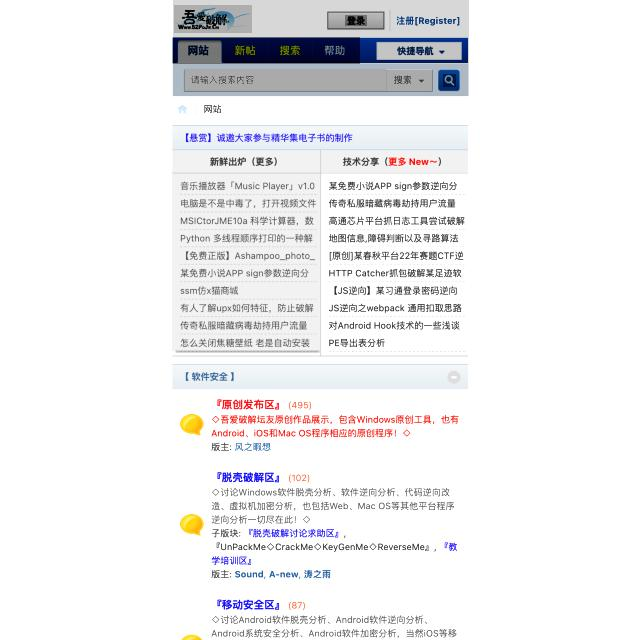CheckBox: (327, 11, 385, 30), (395, 14, 461, 28), (439, 69, 460, 90)
CheckedTextView: (184, 70, 433, 92)
QR code: (173, 388, 469, 640), (172, 172, 320, 351), (322, 173, 468, 353)
SeekBar: (176, 103, 222, 116)
alert: (376, 41, 462, 61), (387, 69, 432, 91)
bag: (173, 0, 469, 96)
carousel: (443, 74, 456, 87)
data feed: (345, 15, 367, 26)
date picker: (174, 5, 252, 33)
footer: (189, 74, 255, 87)
icon: (172, 37, 360, 64)
